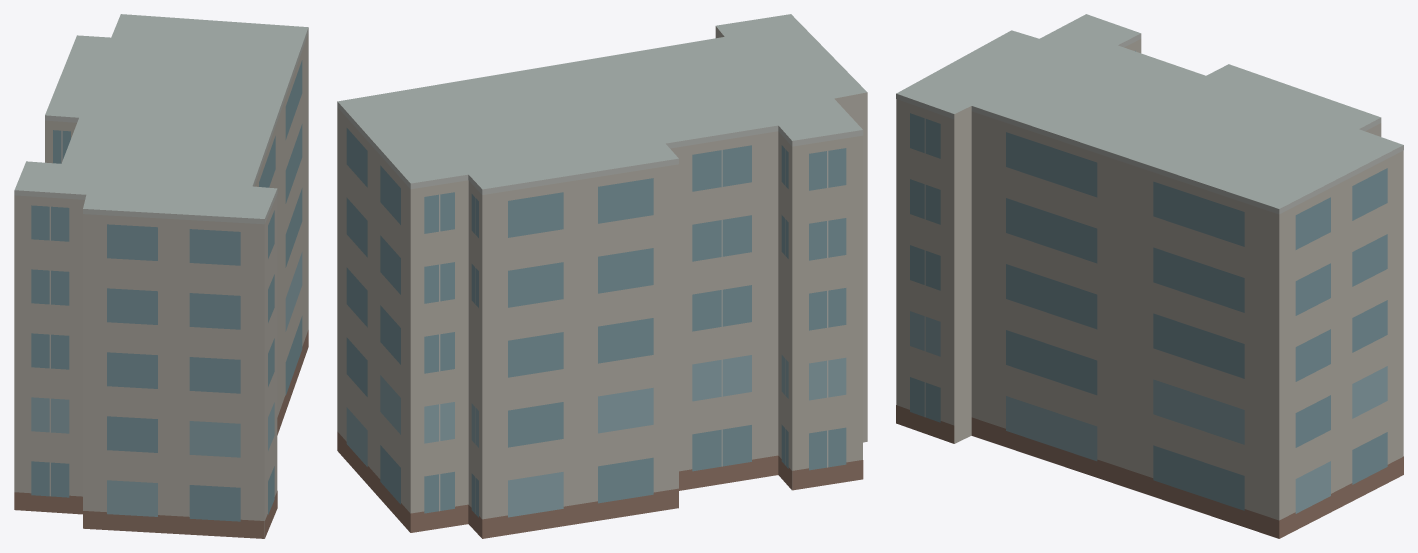
The model's file is survey-upis-32757909.glb.
3 renders of one model, left to right at view 1: azimuth 30°, elevation 25°; view 2: azimuth 150°, elevation 25°; view 3: azimuth 270°, elevation 25°, orthographic. The views are drawn at different scales.
Parts seen in each view (by area): view 1: survey-upis-32757909.tmp; view 2: survey-upis-32757909.tmp; view 3: survey-upis-32757909.tmp.
Part boxes in pixels (x1=…): survey-upis-32757909.tmp: x1=14, y1=14, x2=308, y2=538; survey-upis-32757909.tmp: x1=337, y1=14, x2=867, y2=538; survey-upis-32757909.tmp: x1=896, y1=14, x2=1403, y2=538.
Size of the model in its own units: 18.97 by 14.95 by 20.86.
